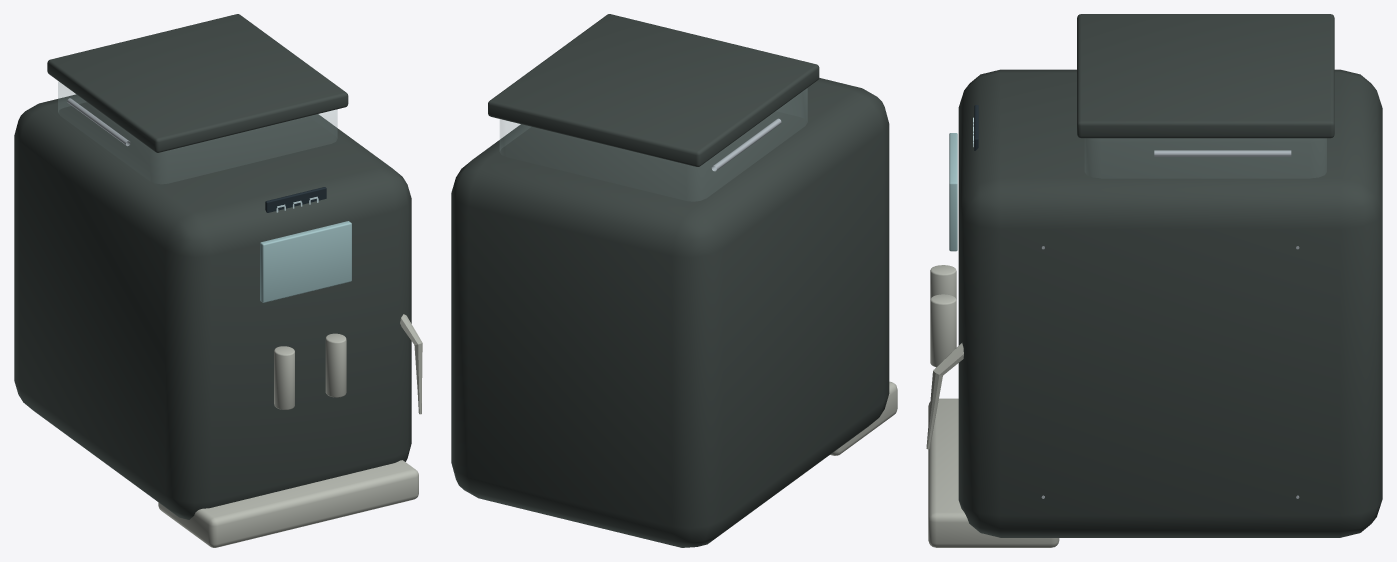
File: bean-coffee-machine.glb
The picture shows the model from 3 angles, left to right: view 1: azimuth 30°, elevation 25°; view 2: azimuth 150°, elevation 25°; view 3: azimuth 270°, elevation 25°; orthographic projection. The views are drawn at different scales.
Visible parts, largest first — view 1: bean-coffee-machine; view 2: bean-coffee-machine; view 3: bean-coffee-machine.
Part boxes in pixels (box(x1,y1,x2,y2)): bean-coffee-machine: box(14, 14, 422, 547); bean-coffee-machine: box(451, 14, 897, 547); bean-coffee-machine: box(926, 14, 1382, 547).
Bounding box in the file's own units: 0.3 × 0.43 × 0.42.
